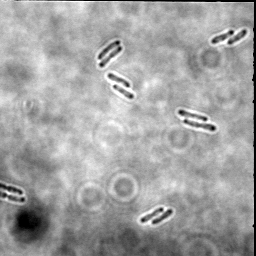Dividing: (97, 44, 123, 69), (182, 117, 217, 133), (138, 206, 164, 224), (1, 190, 27, 205), (1, 181, 24, 196)
Rod: (96, 39, 121, 61), (177, 108, 209, 122), (105, 71, 131, 88), (111, 83, 134, 101), (210, 29, 234, 46), (226, 28, 248, 46), (151, 208, 173, 226)
